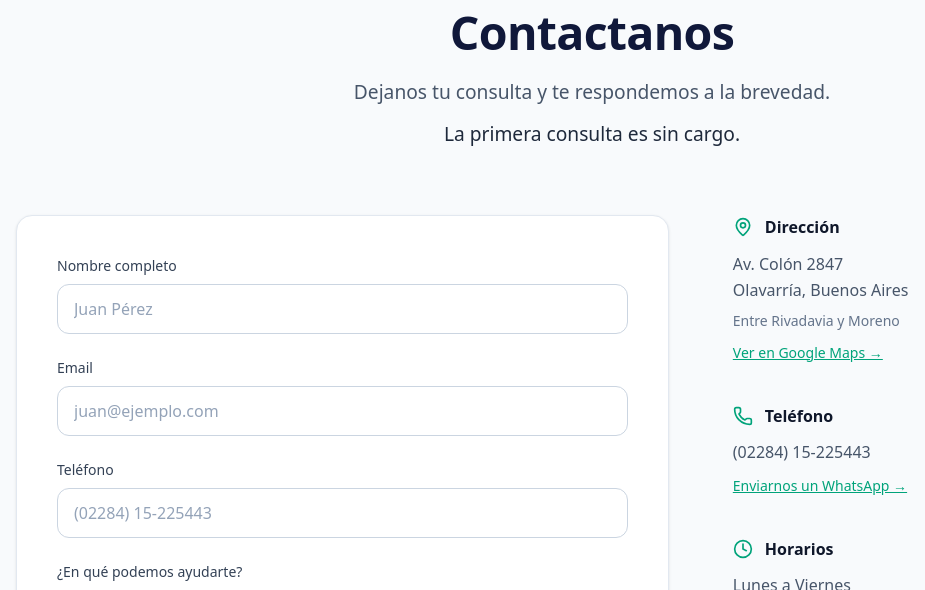
Scenario: Contact integration › campo phone ejecuta handleBlur correctamente
Escribir valor inválido
Type "123" into the field labelled "Teléfono".
click(342, 513); type("123")  # box [57,488,628,538]
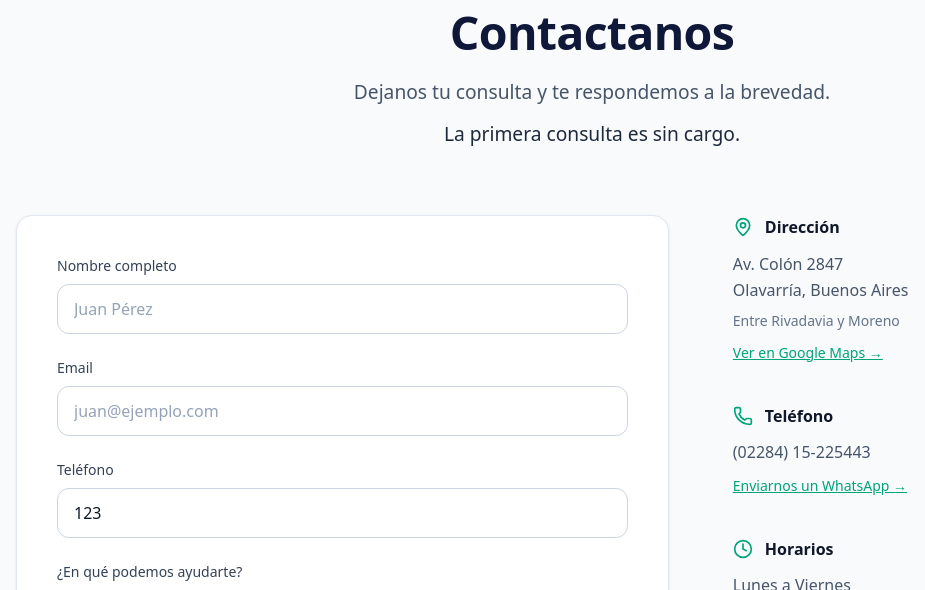
Hacer blur (línea 99 de Contact.tsx)
Leave the field labelled "Teléfono", box [57,488,628,538]
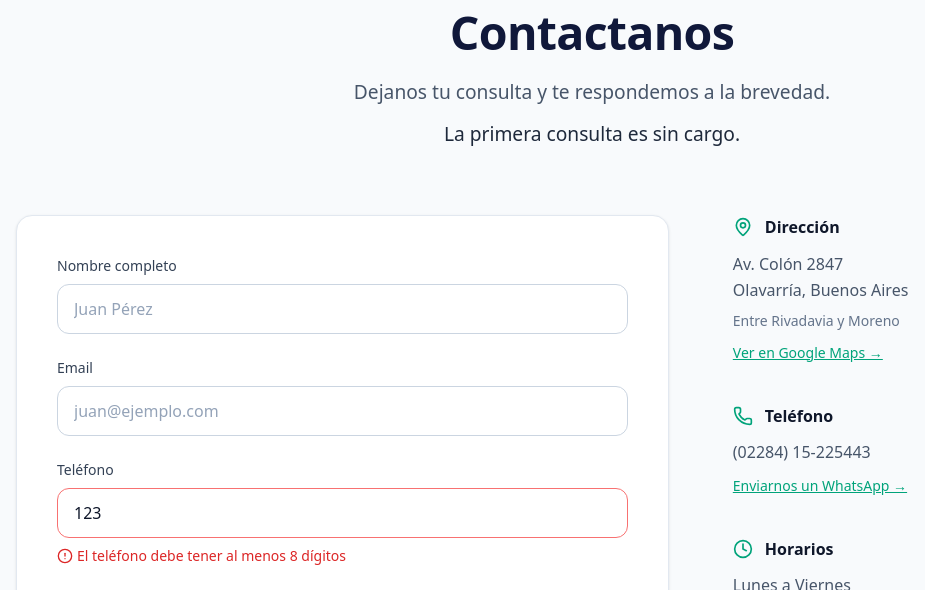
Expected: the text "El teléfono debe tener al menos 8 dígitos" is shown, [57,546,346,565]
